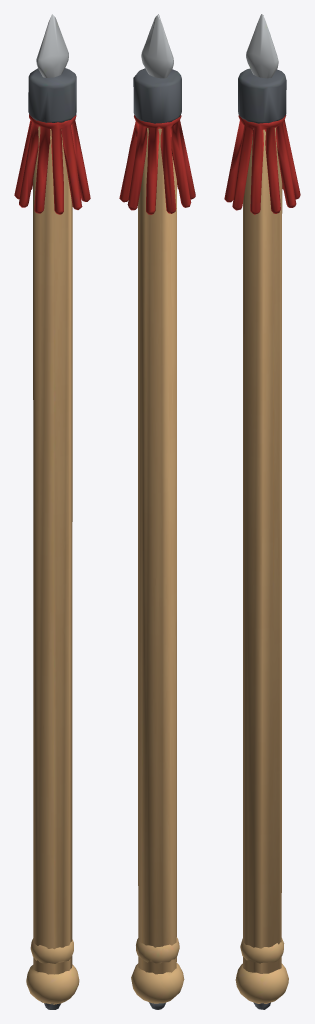
File: pike.glb
3 views of the same model, side by side, from view 1: azimuth 30°, elevation 25°; view 2: azimuth 150°, elevation 25°; view 3: azimuth 330°, elevation 25° (orthographic).
Visible parts, largest first — view 1: pole; view 2: pole; view 3: pole.
Boxes of the visible parts, bbox=[...] form: pole: bbox=[14, 14, 90, 1009]; pole: bbox=[119, 14, 195, 1009]; pole: bbox=[224, 14, 300, 1009].
Size of the model in its own units: 0.1726 by 2.47 by 0.1663.
1 material, 1 textured.
